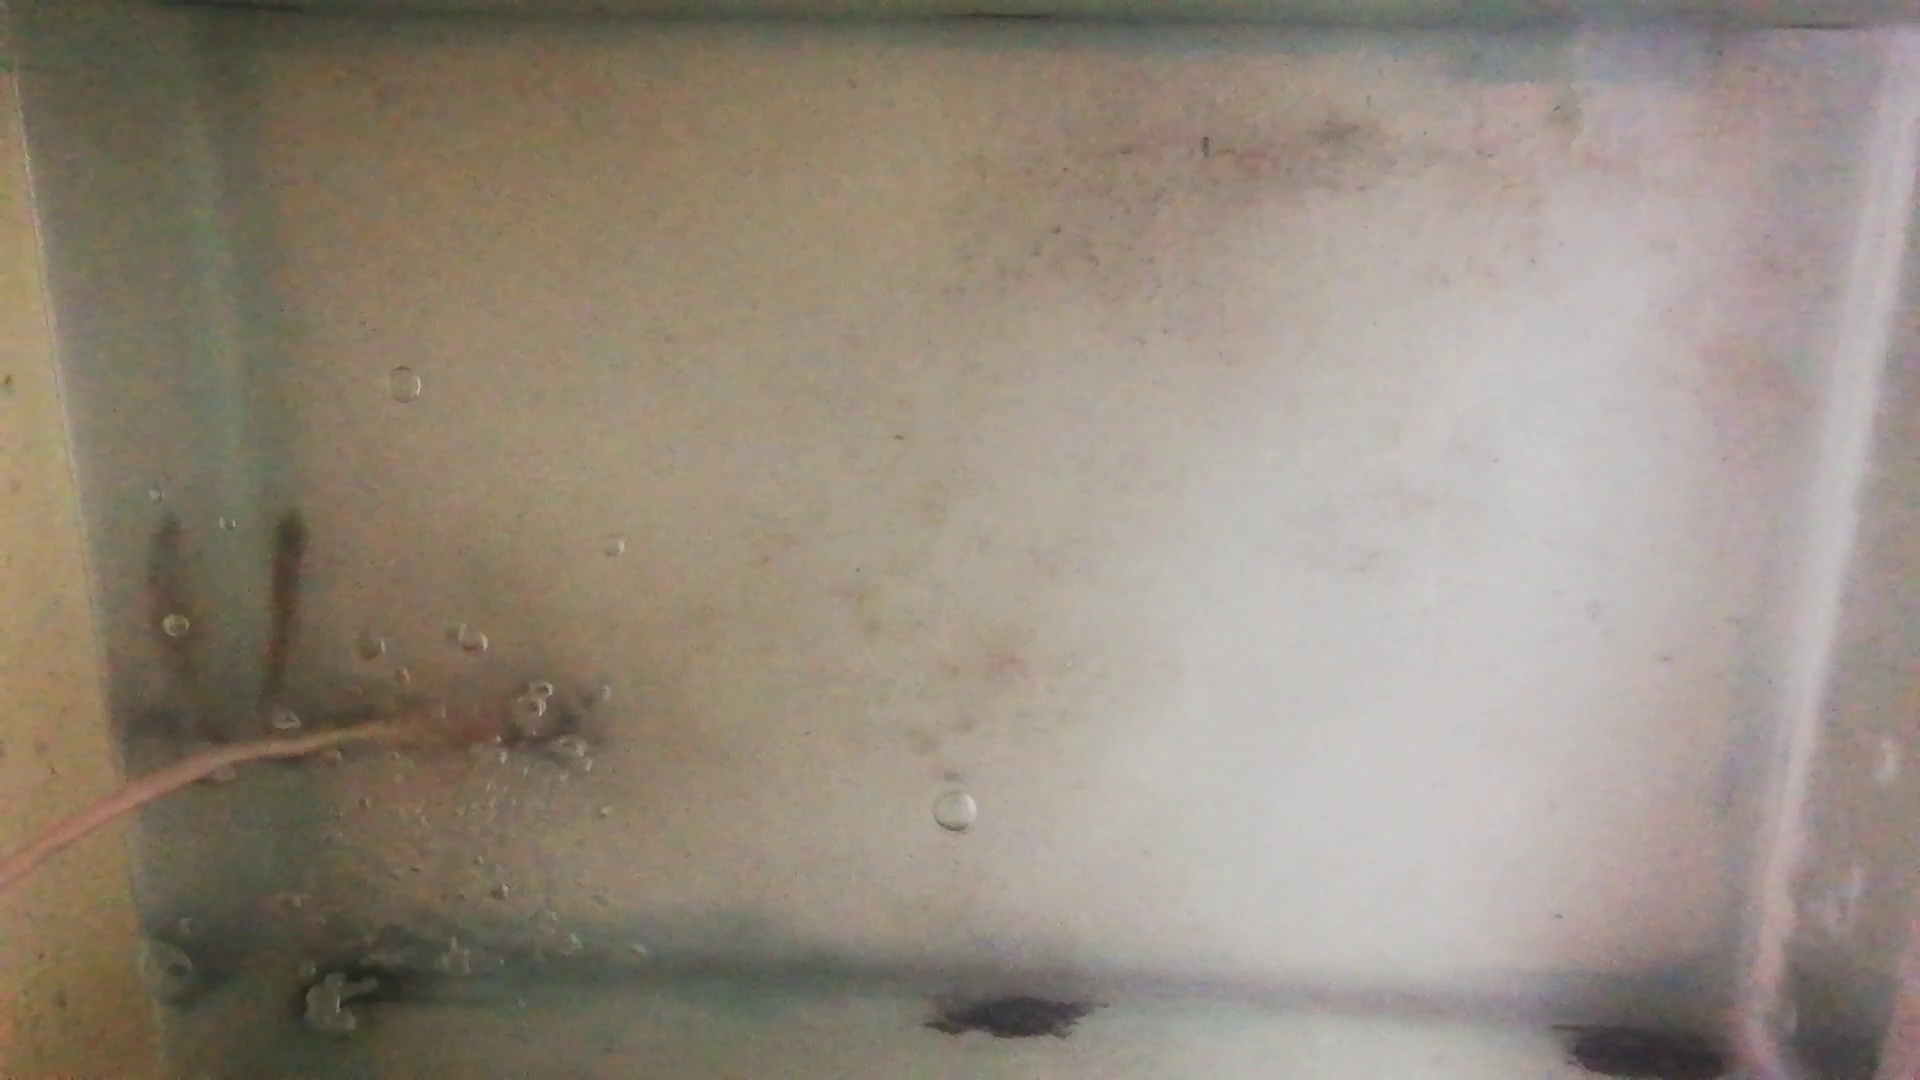fish: (261, 506, 311, 711)
